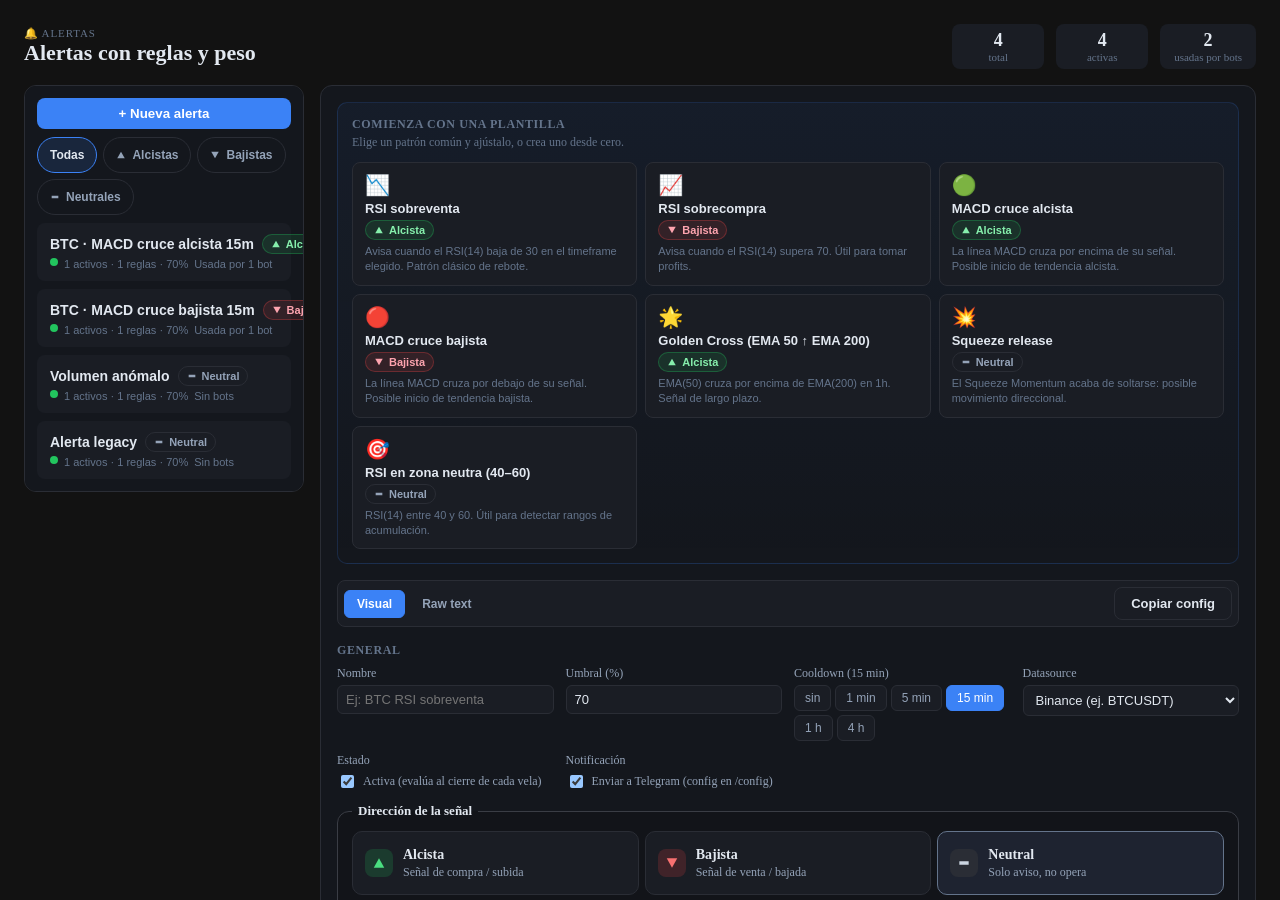
Scenario: AlertsPage · dirección (escritorio) › muestra el chip de dirección en la lista y filtra por dirección
Expected: the text "Alerta legacy" is shown, top-left (50, 434), bottom-right (137, 450)
Expected: the 3rd element with test id "direction-chip" reads "Neutral", top-left (169, 436), bottom-right (207, 448)
Click the button "Alcistas": x=148, y=155 top-left (104, 137), bottom-right (192, 173)
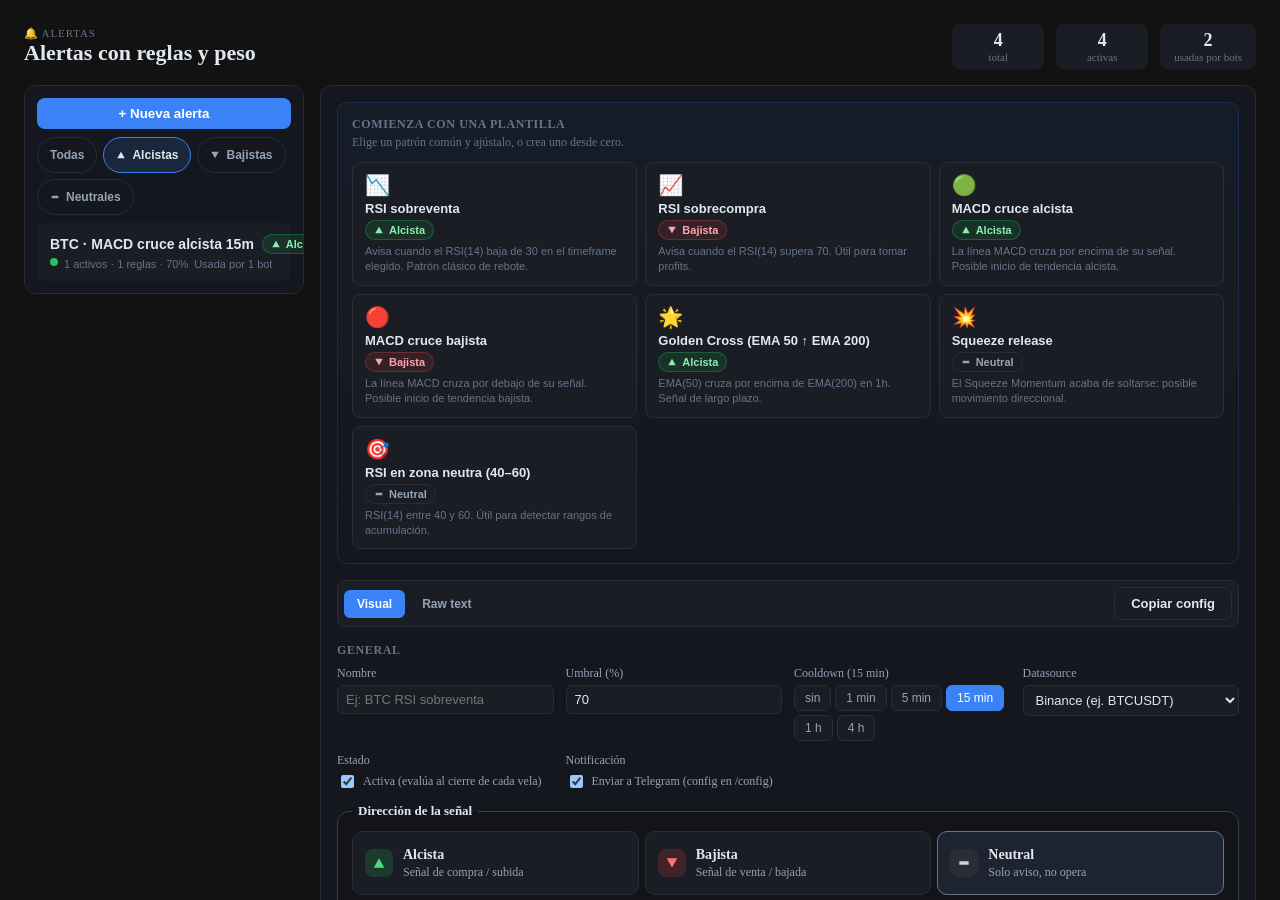
Expected: the text "BTC · MACD cruce alcista 15m" is shown, top-left (50, 236), bottom-right (254, 252)
Expected: the button "BTC · MACD cruce bajista 15m" is gone
Click the button "Neutrales": x=85, y=197 top-left (37, 179), bottom-right (134, 215)
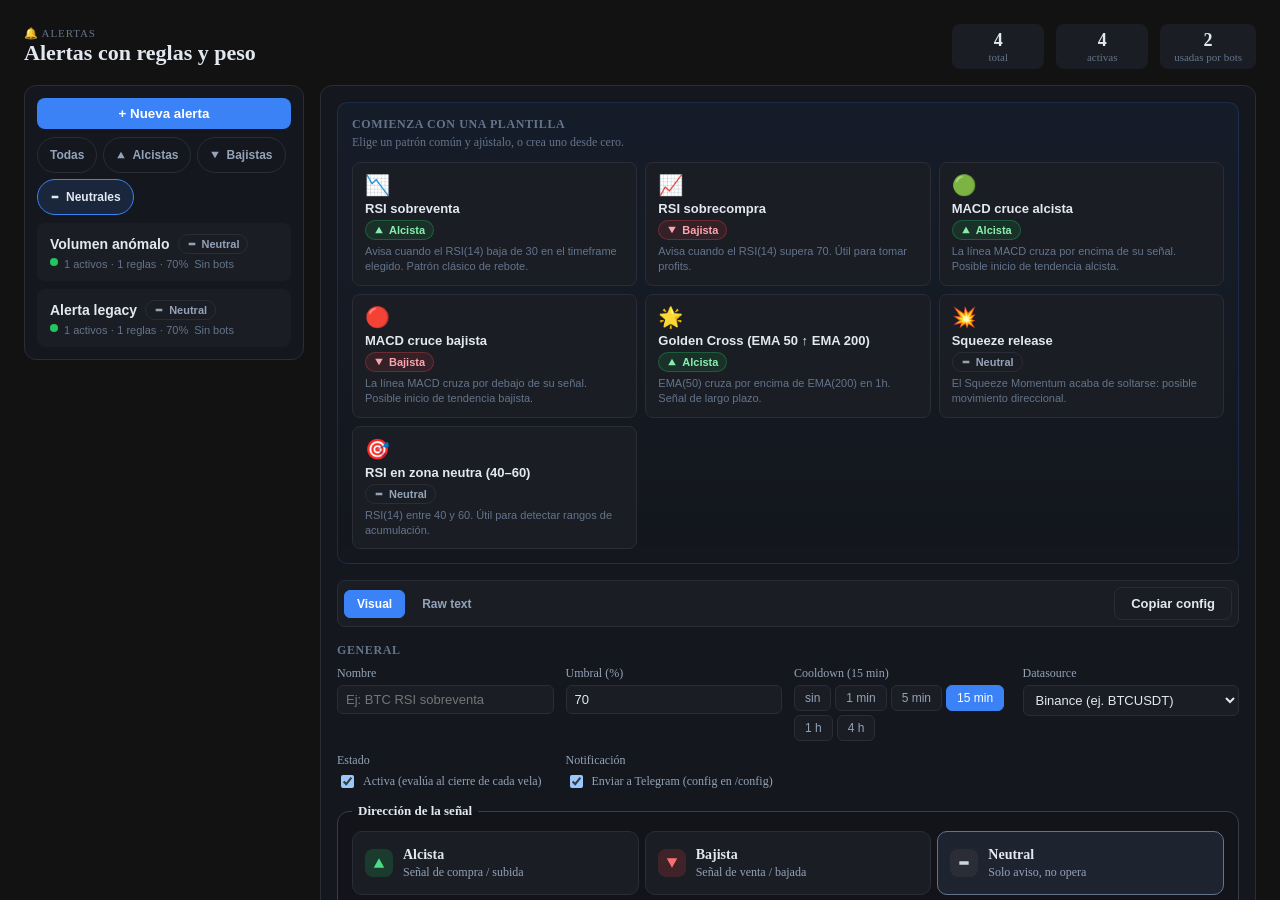
Expected: the text "Volumen anómalo" is shown, top-left (50, 236), bottom-right (170, 252)
Expected: the text "Alerta legacy" is shown, top-left (50, 302), bottom-right (137, 318)
Expected: the button "BTC · MACD cruce alcista 15m" is gone
Click the button "Todas": x=67, y=155 top-left (37, 137), bottom-right (98, 173)
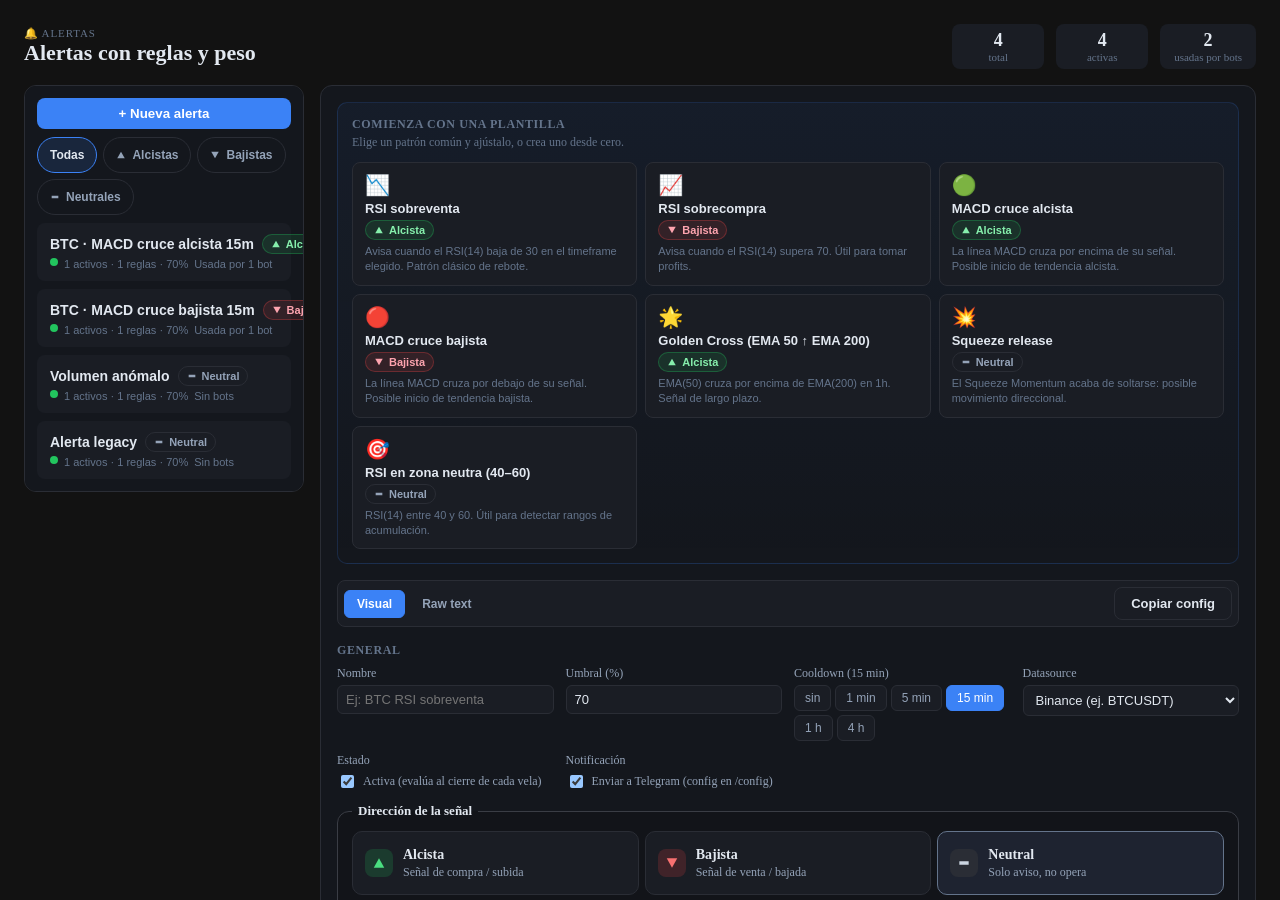
Expected: the text "BTC · MACD cruce bajista 15m" is shown, top-left (50, 302), bottom-right (255, 318)
